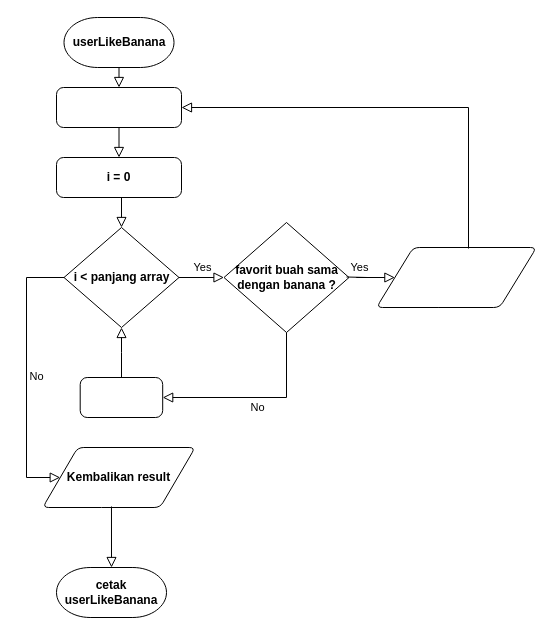
Image size: 554x635. Some labels were removed from this diagram. Here are the shapes that lost their labels. From the top down, the centre of each, then its label:
pixel 119 107: Array baru
pixel 456 277: masukan data object
pixel 121 397: i++
